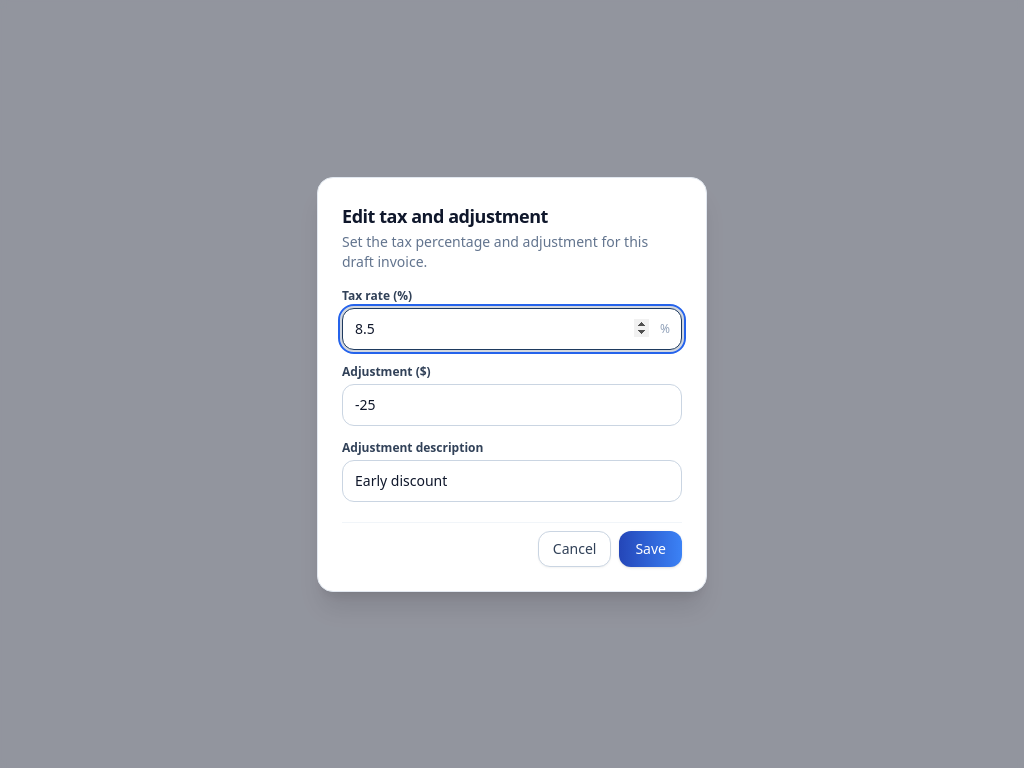
Test: EditTaxModal › validates negative tax rate and displays error
The width and height of the screenshot is (1024, 768).
Replace the text in the number field labelled "Tax rate (%)" with "-5" at x=512, y=328, box [342,308,682,350]
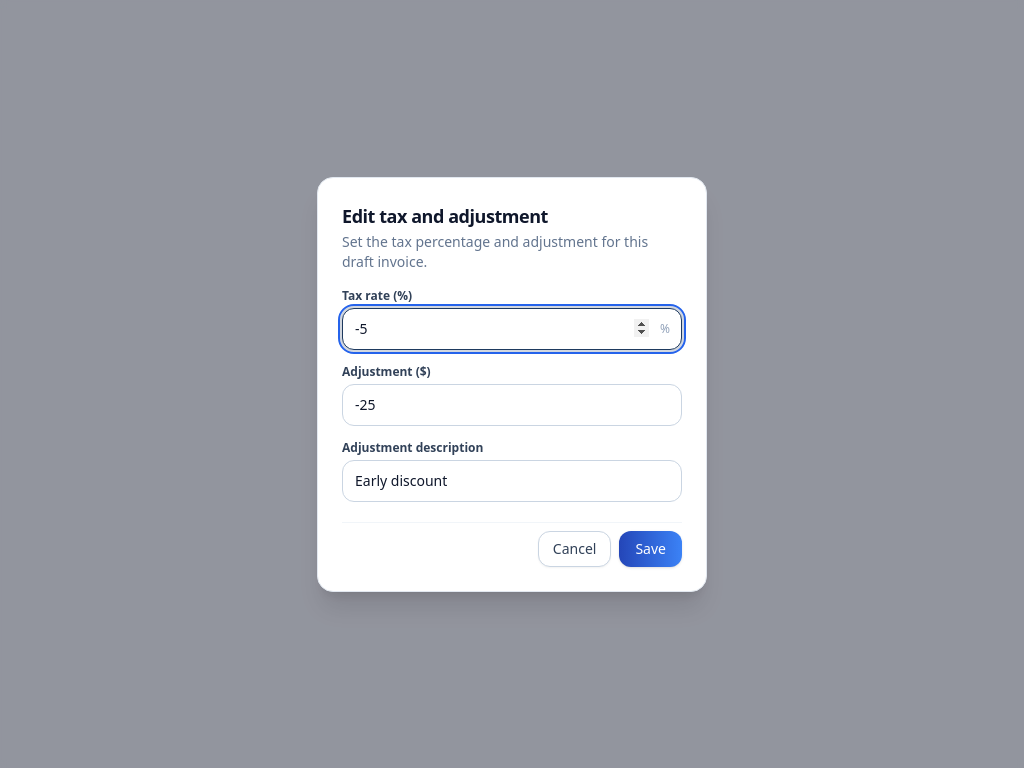
Click the button "Save".
click(651, 548)  # box [619,530,682,566]
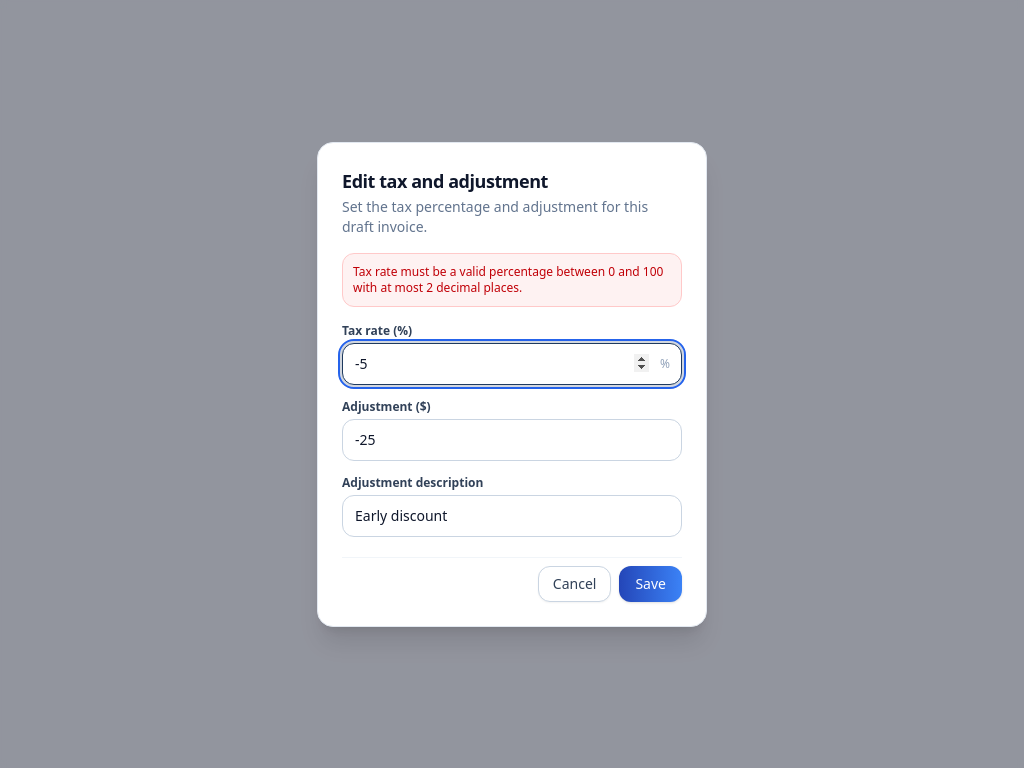
Result: the message shows "Tax rate must be a valid percentage between 0 and 100" at [353,262,663,296]
